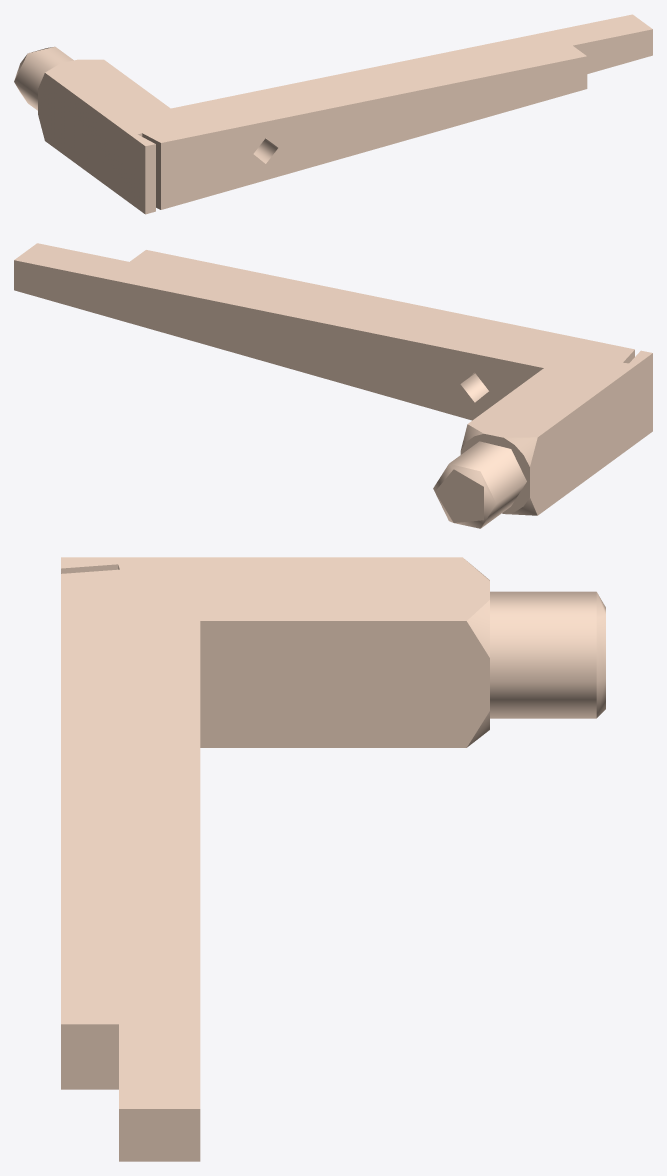
Rendered from Guide cremaillere_Heures.obj.
3 views of the same model, one above another, from view 1: azimuth 30°, elevation 25°; view 2: azimuth 150°, elevation 25°; view 3: azimuth 270°, elevation 25° (orthographic). The views are drawn at different scales.
Visible parts, largest first — view 1: Face_6, Face_5, Face_3, Face_12, Face_7, Face_10, Face_17, Face_18; view 2: Face_5, Face_14, Face_3, Face_7, Face_8, Face_2, Face_9, Face_20, Face_18; view 3: Face_5, Face_1, Face_7, Face_13, Face_11, Face_9.
Boxes of the visible parts, left/top/right/bottom form: Face_6: left=161, top=56, right=587, bottom=209; Face_5: left=45, top=14, right=652, bottom=146; Face_3: left=38, top=73, right=145, bottom=213; Face_12: left=573, top=29, right=652, bottom=73; Face_7: left=14, top=46, right=73, bottom=110; Face_10: left=145, top=144, right=155, bottom=214; Face_17: left=142, top=133, right=160, bottom=209; Face_18: left=253, top=138, right=277, bottom=163; Face_5: left=14, top=243, right=652, bottom=437; Face_14: left=14, top=260, right=543, bottom=420; Face_3: left=530, top=353, right=652, bottom=515; Face_7: left=449, top=441, right=526, bottom=528; Face_8: left=435, top=469, right=483, bottom=522; Face_2: left=460, top=434, right=529, bottom=513; Face_9: left=433, top=463, right=496, bottom=528; Face_20: left=504, top=437, right=537, bottom=466; Face_18: left=460, top=373, right=488, bottom=402; Face_5: left=61, top=557, right=489, bottom=1108; Face_1: left=200, top=621, right=489, bottom=747; Face_7: left=490, top=591, right=596, bottom=718; Face_13: left=119, top=1109, right=200, bottom=1161; Face_11: left=61, top=1024, right=118, bottom=1089; Face_9: left=596, top=592, right=605, bottom=717.
Size of the model in its own units: 0.052 by 0.0065 by 0.0235.
